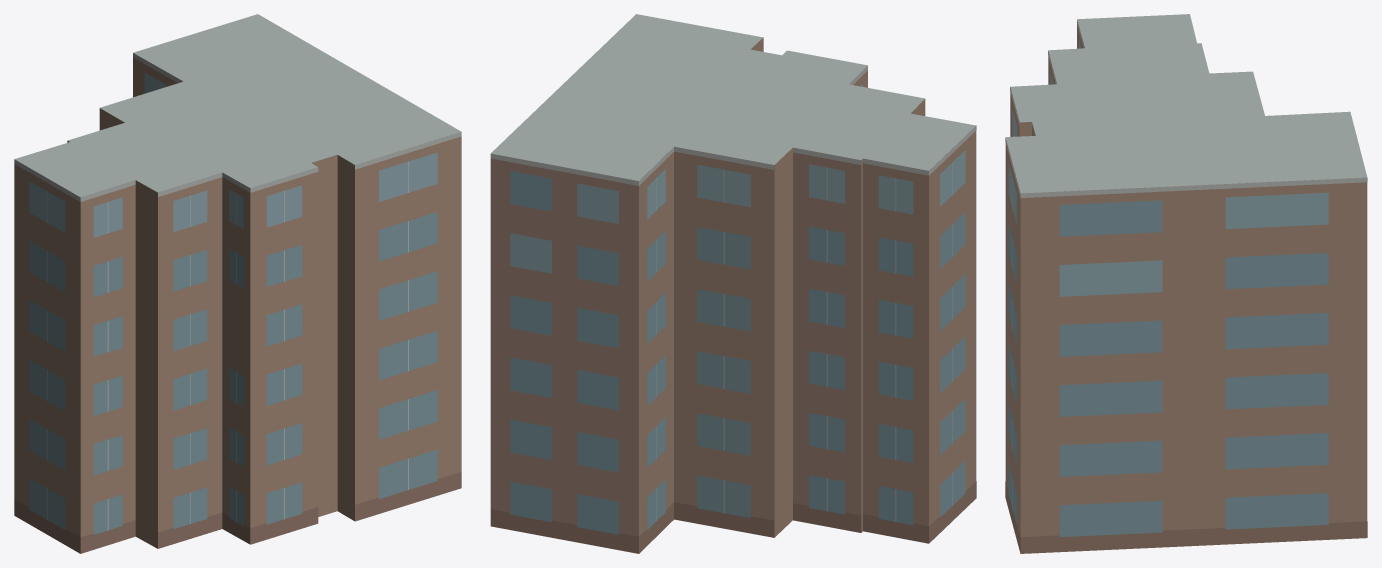
The model's file is survey-upis-32978488.glb.
The picture shows the model from 3 angles, left to right: view 1: azimuth 30°, elevation 25°; view 2: azimuth 150°, elevation 25°; view 3: azimuth 270°, elevation 25°; orthographic projection. The views are drawn at different scales.
Visible parts, largest first — view 1: survey-upis-32978488.tmp; view 2: survey-upis-32978488.tmp; view 3: survey-upis-32978488.tmp.
Boxes of the visible parts, x1,y1,x2,y2 form: survey-upis-32978488.tmp: (14,14,461,553); survey-upis-32978488.tmp: (490,14,976,553); survey-upis-32978488.tmp: (1005,14,1367,553).
Bounding box in the file's own units: 19.97 × 18.7 × 17.03.
